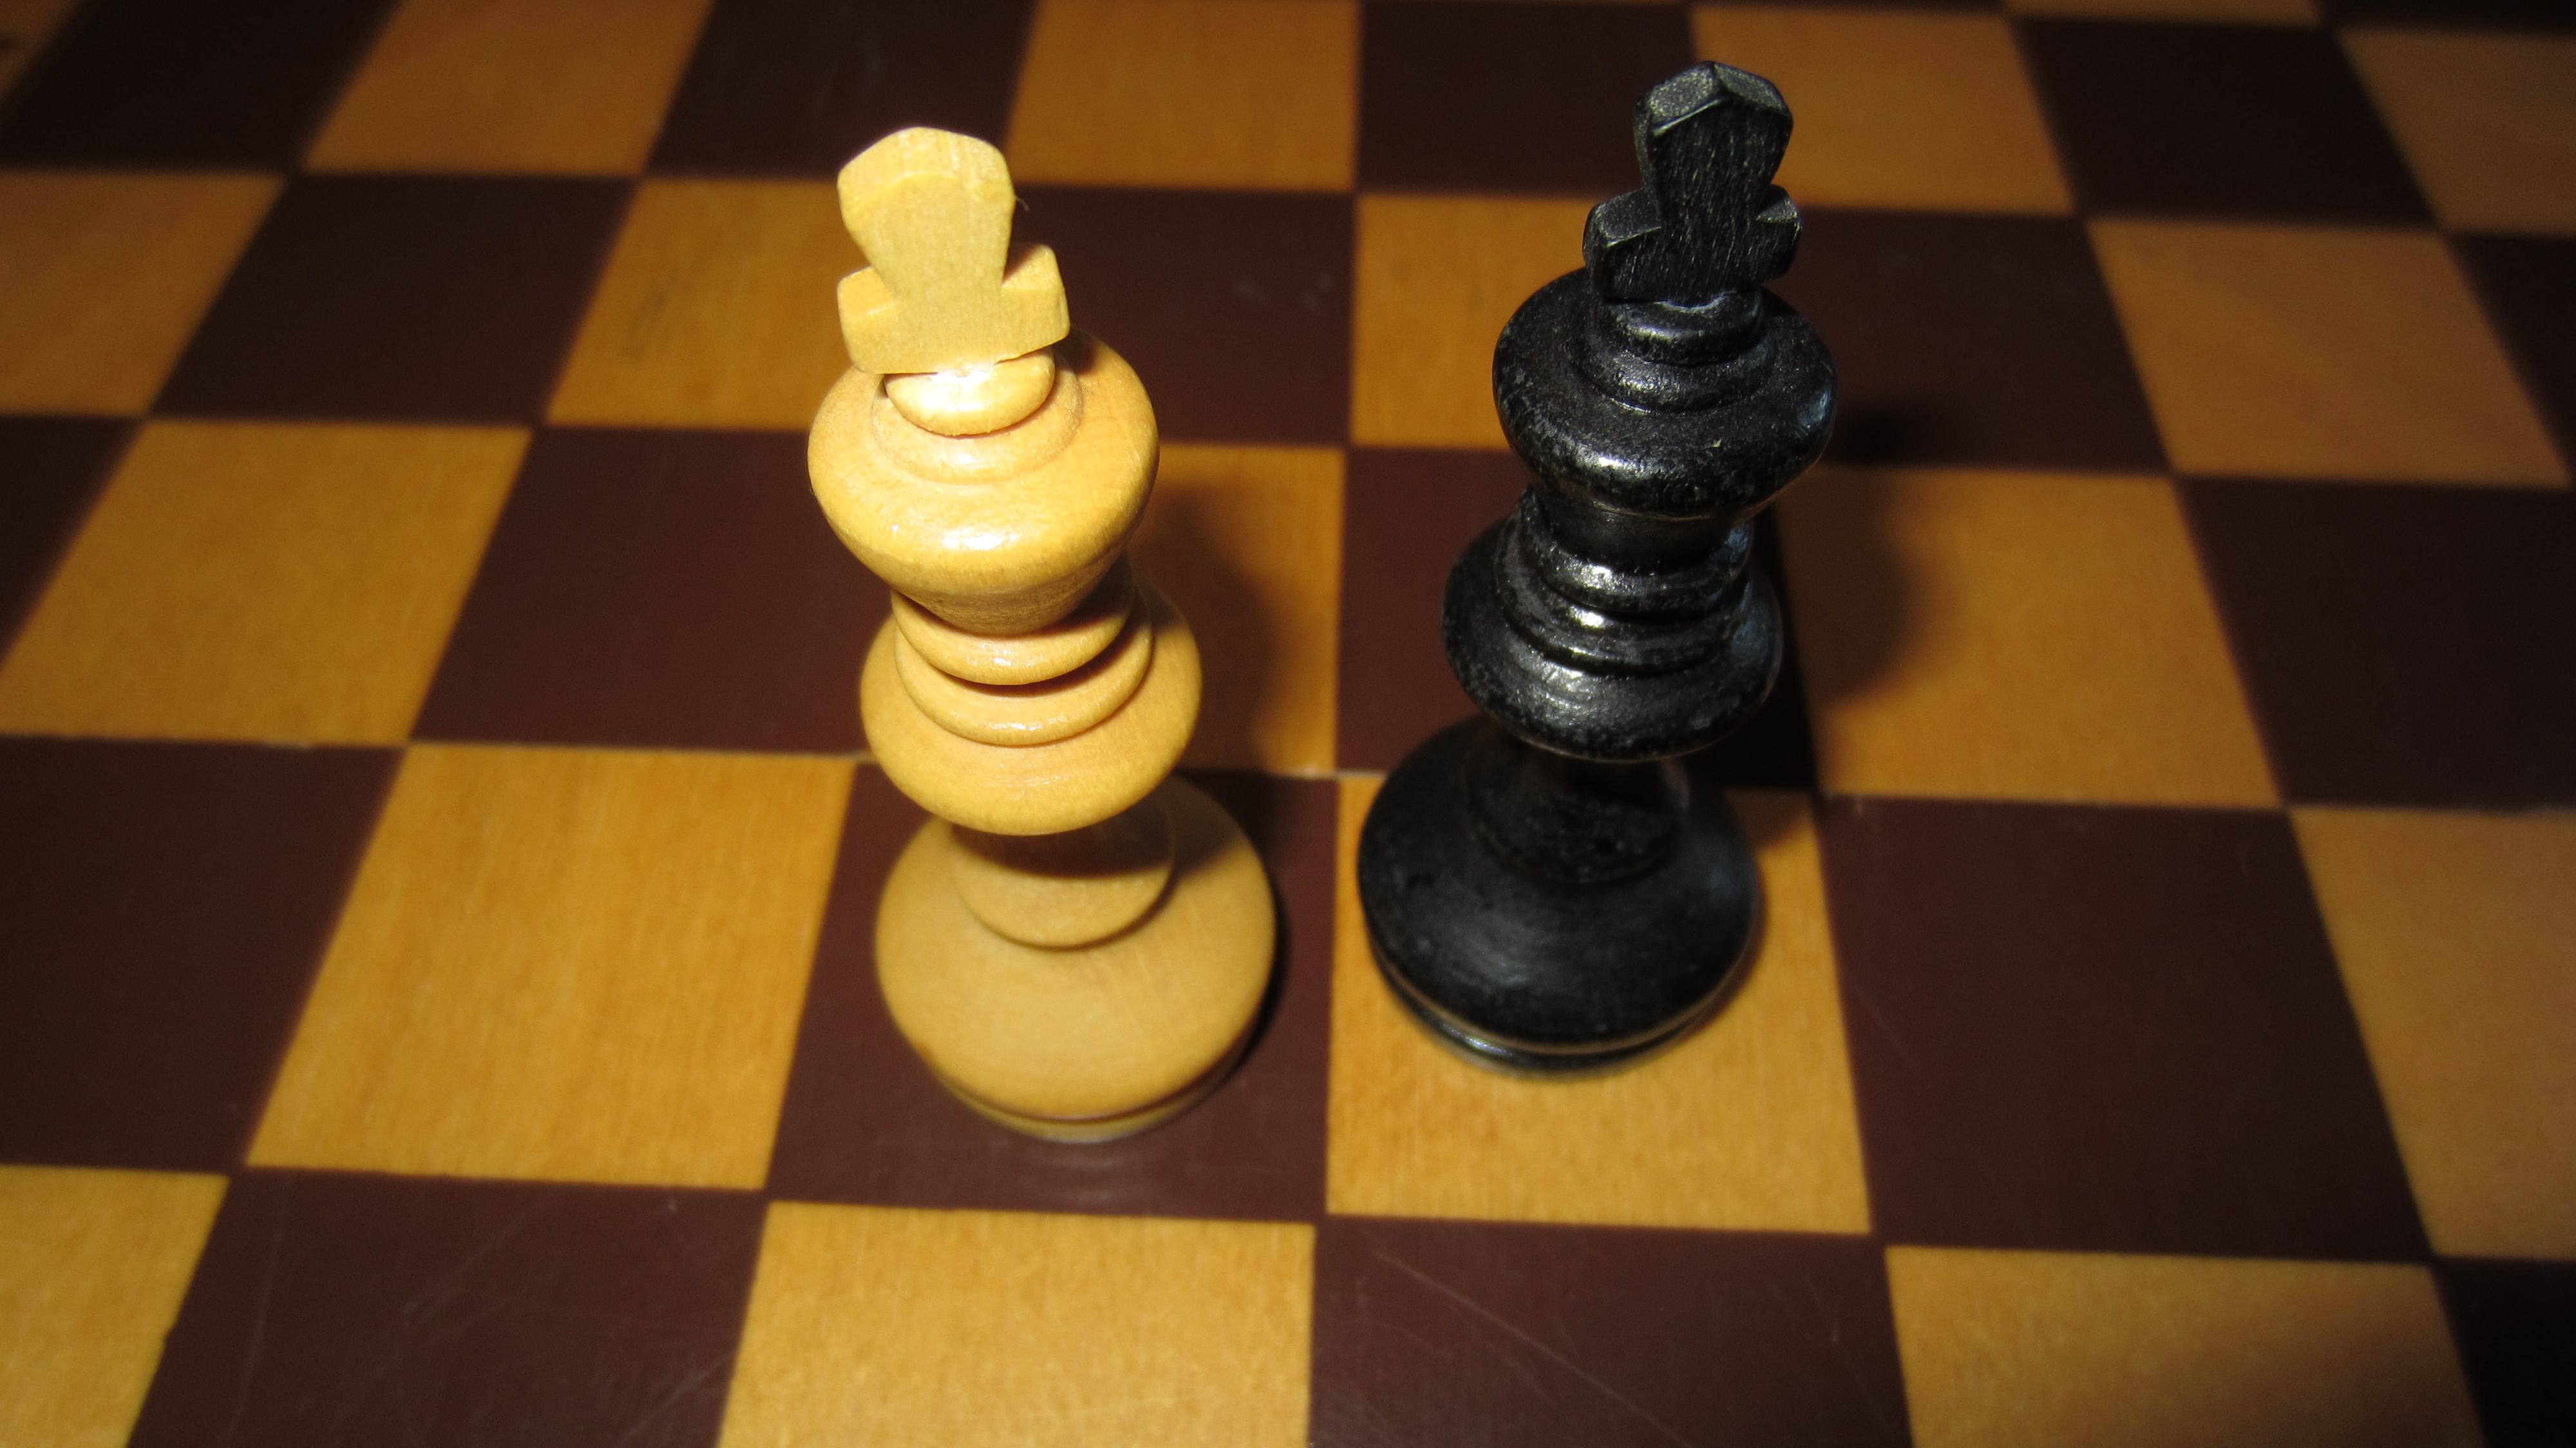black-king: (1345, 57, 1847, 1085)
white-king: (800, 113, 1297, 1152)
